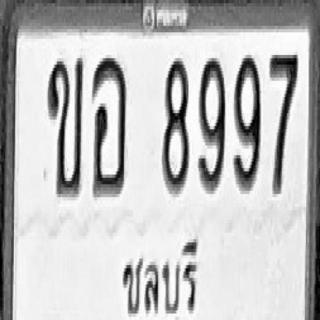A02: (46, 56, 83, 196)
A43: (92, 55, 126, 194)
N07: (269, 50, 297, 192)
N08: (162, 57, 188, 192)
N09: (198, 55, 224, 191), (234, 53, 260, 189)
P13: (121, 239, 201, 320)
